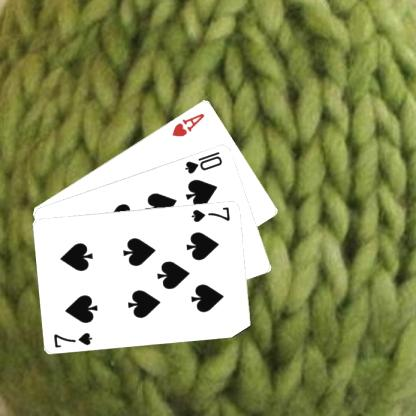10S: (182, 149, 224, 175)
7S: (189, 204, 231, 223), (52, 330, 94, 349)
AH: (169, 110, 206, 138)
